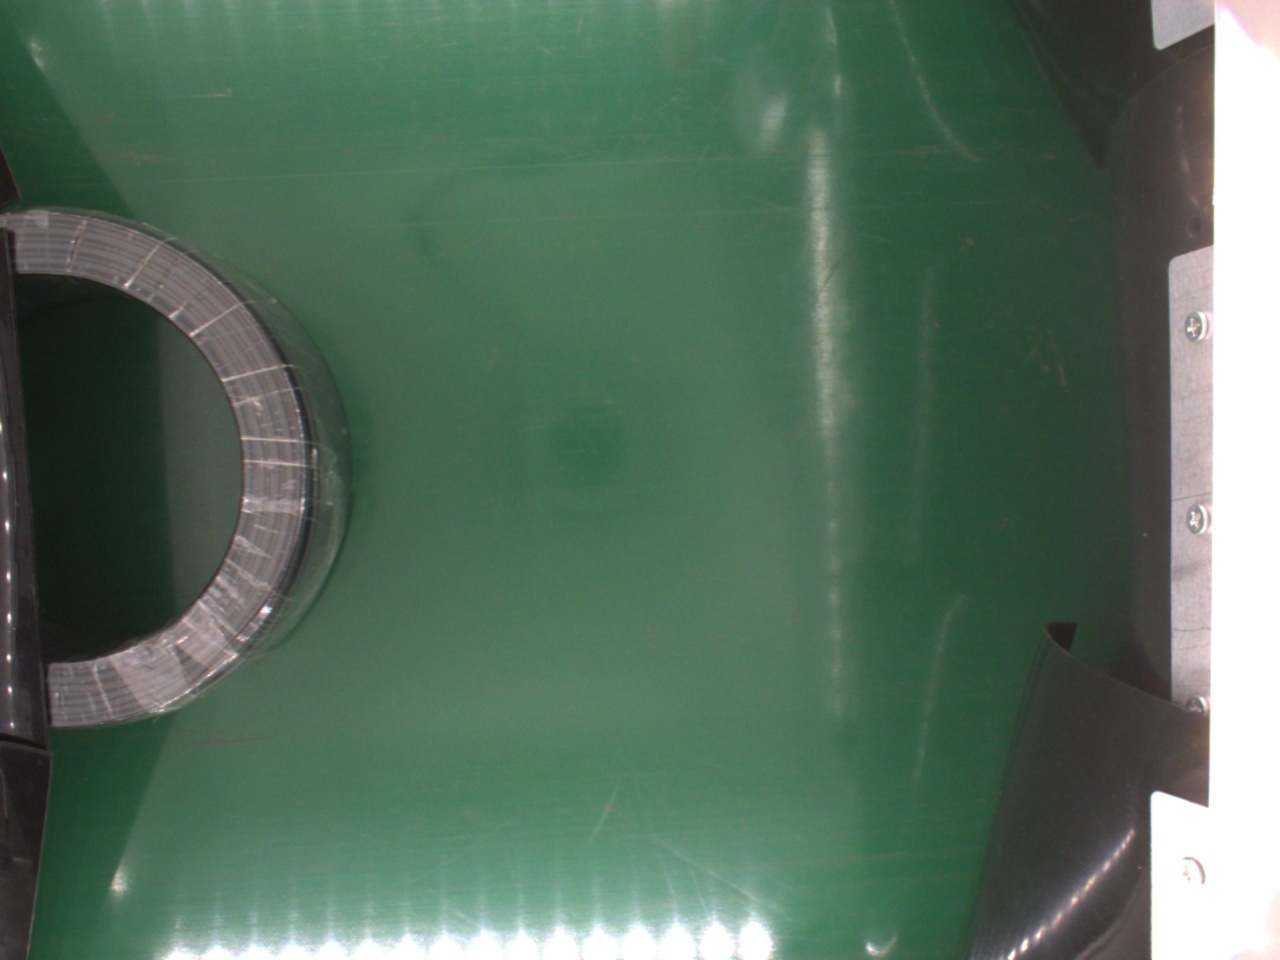black: (16, 208, 348, 733)
